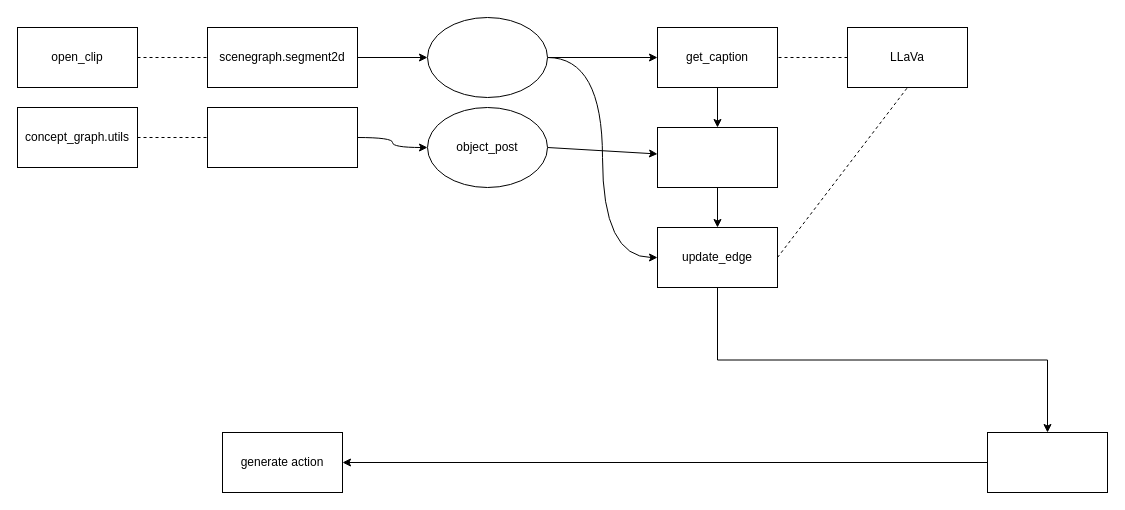
Some shapes in this 1125 by 510 pixel diagram are drawn without their labels. Each missing label, with the centre of its shape:
glip update map: pixel 1047 462
scenegraph.mapping3d: pixel 282 137
segment2d res: pixel 487 57
update_node: pixel 717 157
